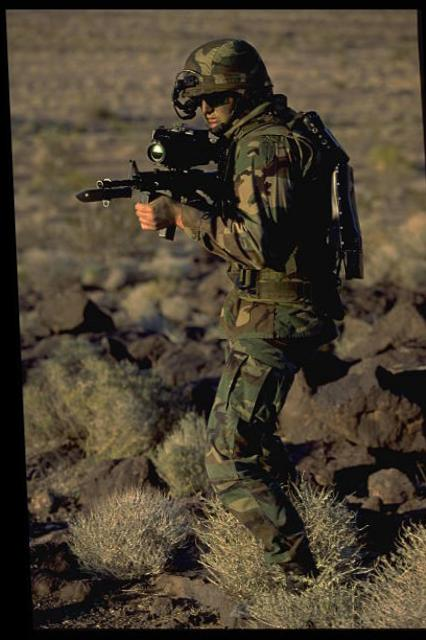other: (146, 63, 378, 521)
